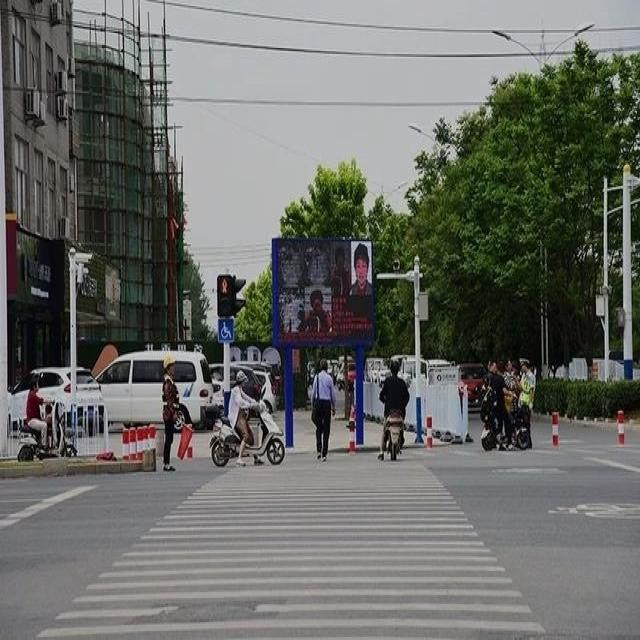non-fight: (376, 357, 408, 463), (310, 355, 337, 460)
